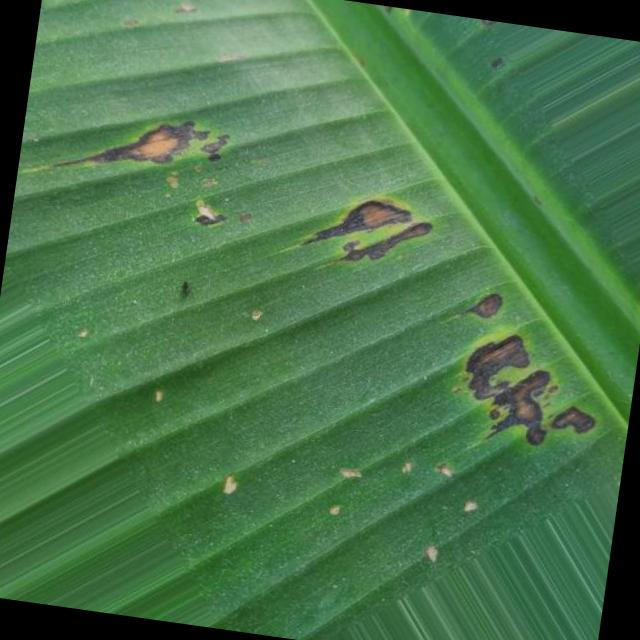Banana_Black_Sigatoka: (293, 147, 640, 467), (64, 64, 272, 265)
